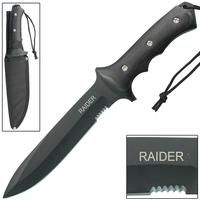knife: (20, 1, 194, 198), (3, 3, 38, 132)
